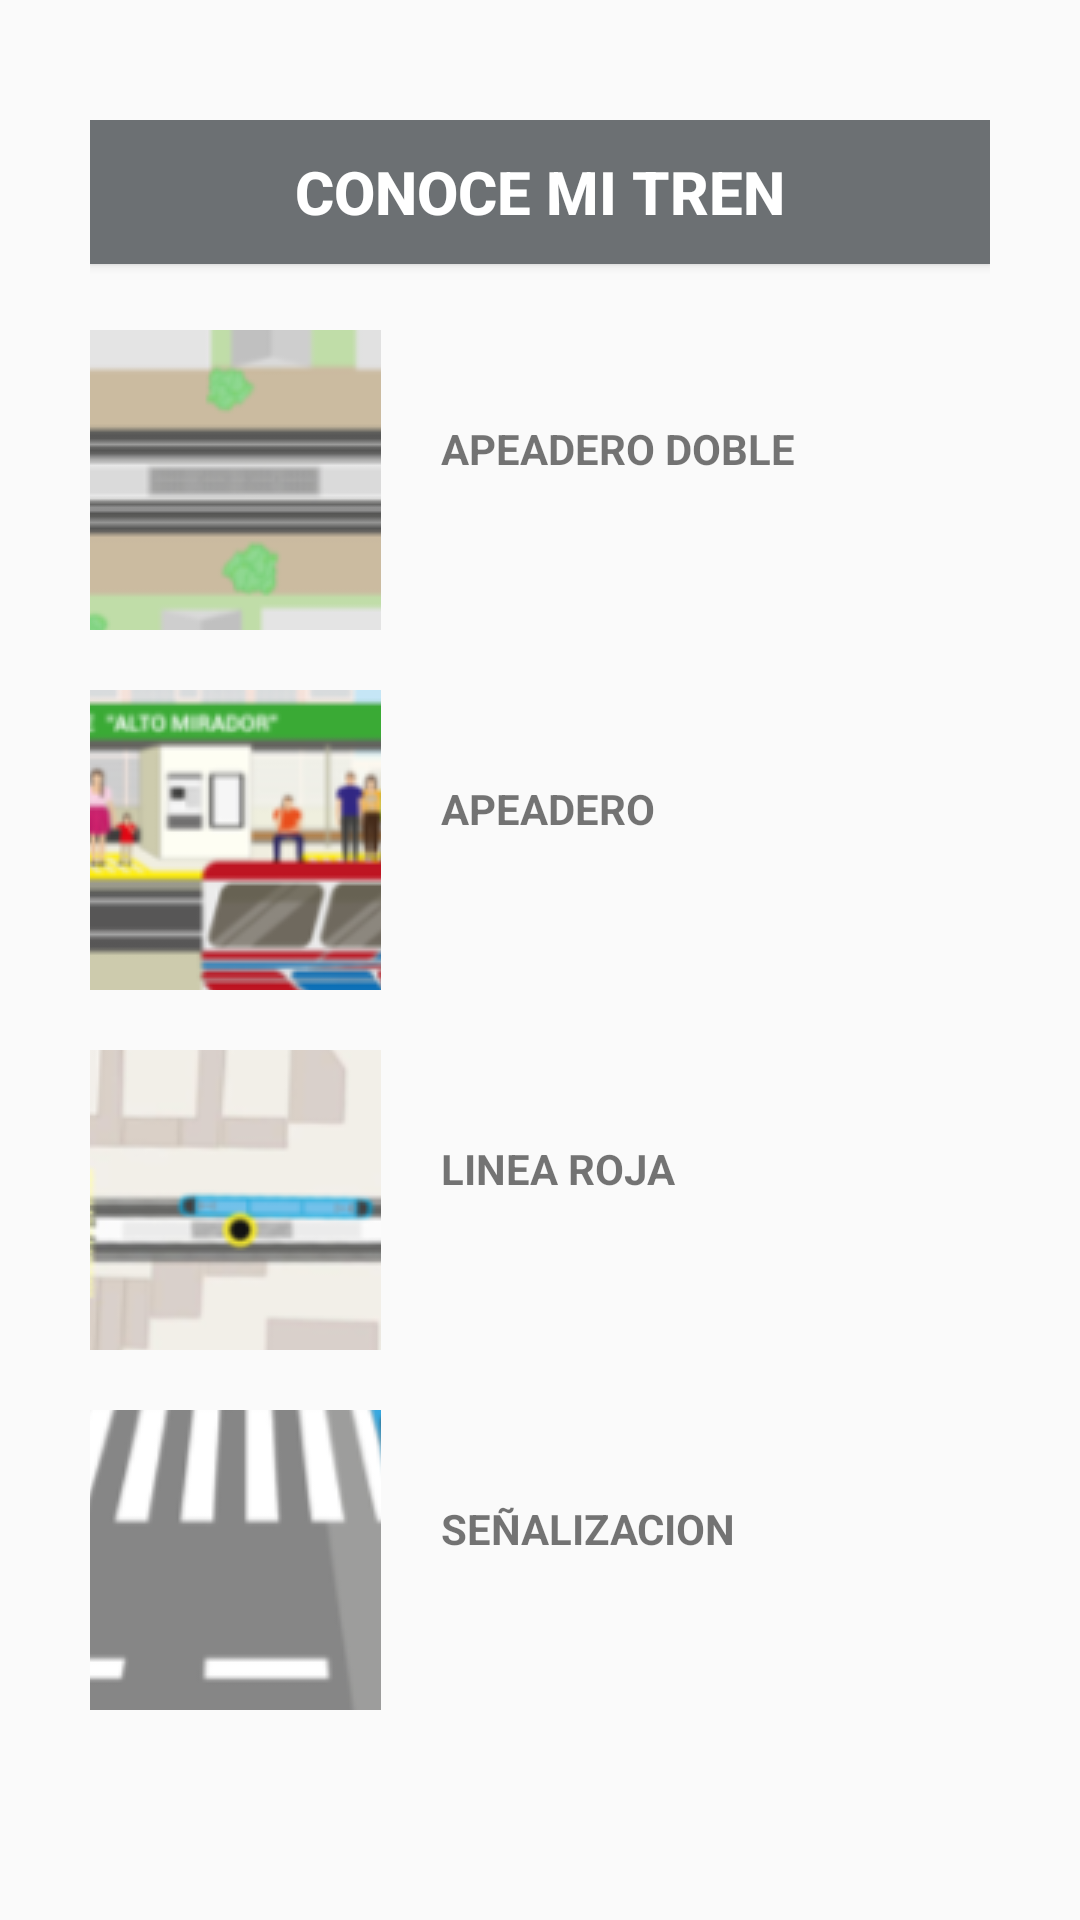

Icons on this 1080px×1920px Android screen, each with the point to tap as (x,y):
senalizacion: (235,1560)
